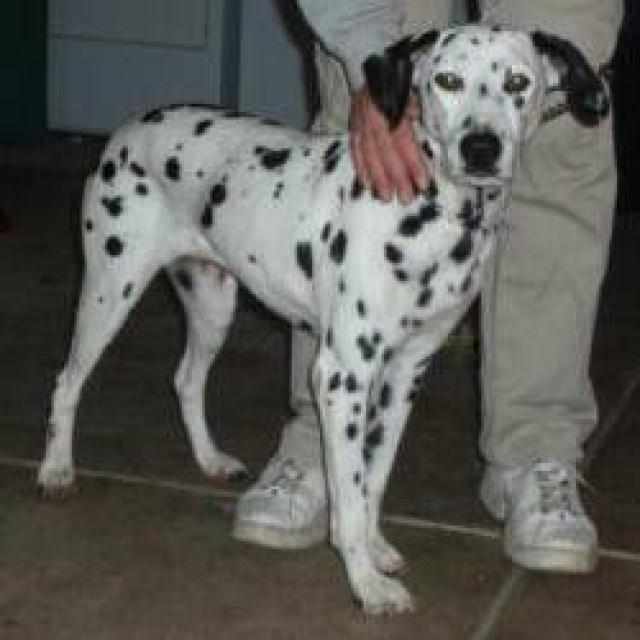Dog: (350, 16, 620, 192)
